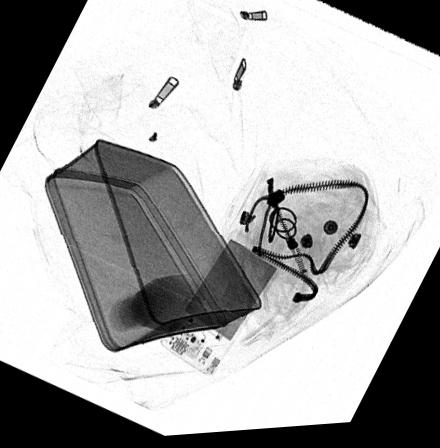Powerbank: (160, 235, 283, 378)
